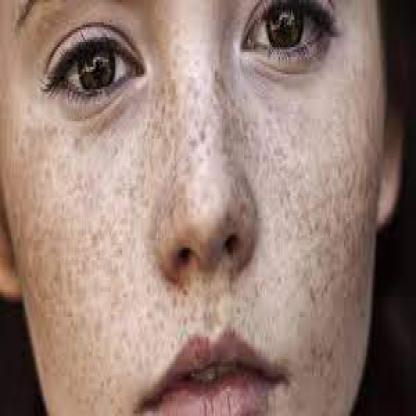darkspot: (14, 129, 151, 359), (270, 92, 365, 381), (160, 79, 244, 208), (165, 277, 262, 320)
